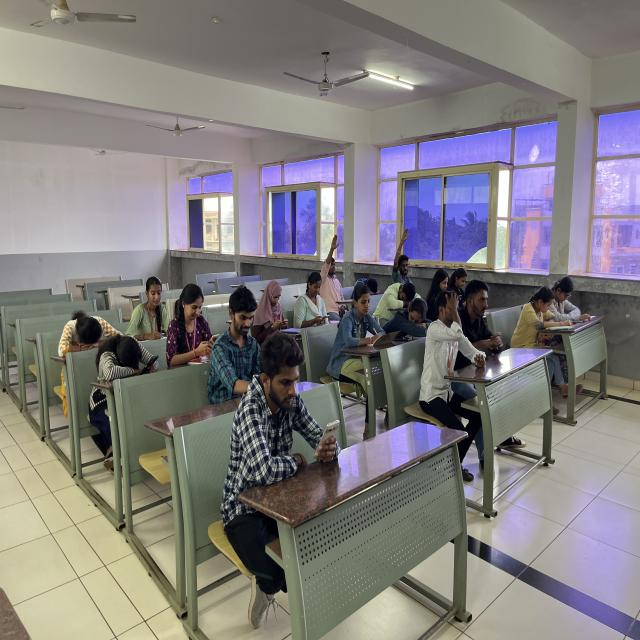Hand Rising: (313, 230, 353, 314), (388, 222, 424, 284)
Reading: (518, 288, 572, 339)
Sleeping: (46, 296, 122, 358), (348, 263, 385, 294)
Using Phone: (217, 328, 359, 520), (90, 334, 168, 398), (168, 276, 223, 359)
Writing: (339, 284, 396, 362)
